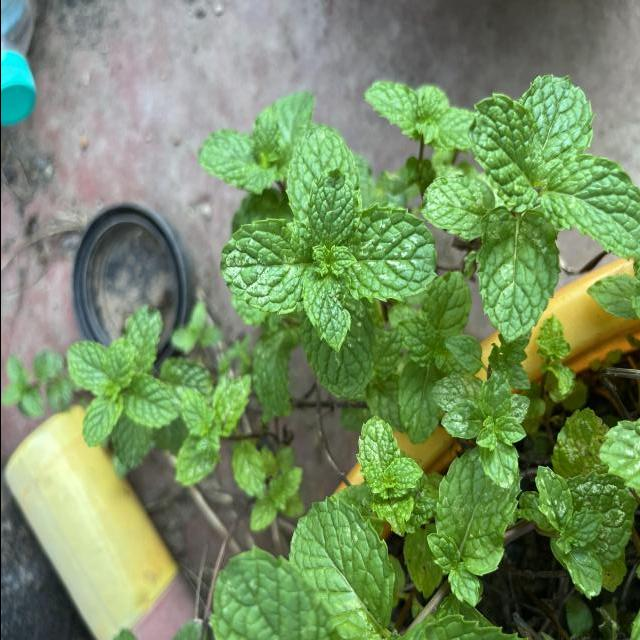Mentha spicata: (473, 212, 560, 340), (543, 151, 640, 264), (342, 204, 438, 304), (216, 215, 308, 318), (464, 92, 542, 206), (283, 126, 358, 228), (353, 414, 398, 478)
